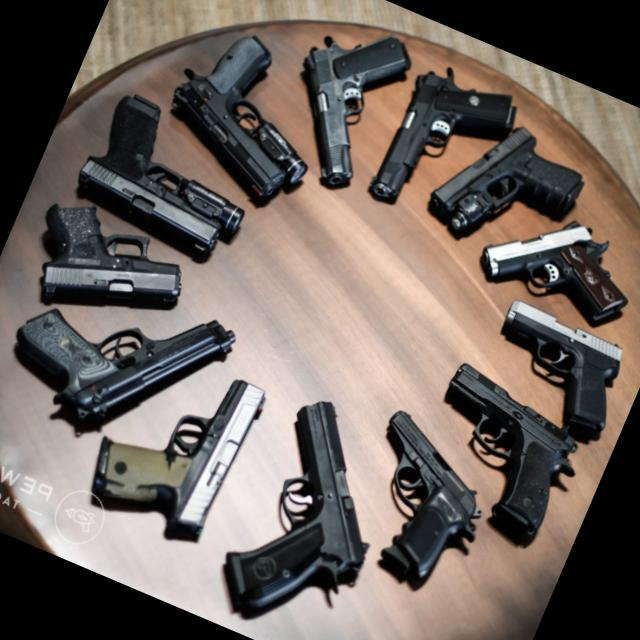Weapon: (203, 386, 419, 640), (0, 248, 241, 475), (65, 333, 278, 570), (146, 17, 354, 222), (399, 359, 602, 559), (57, 90, 270, 278), (334, 410, 508, 604), (415, 100, 599, 278), (261, 3, 421, 204), (12, 187, 197, 352), (364, 52, 526, 235), (463, 192, 640, 340), (468, 296, 638, 445)
